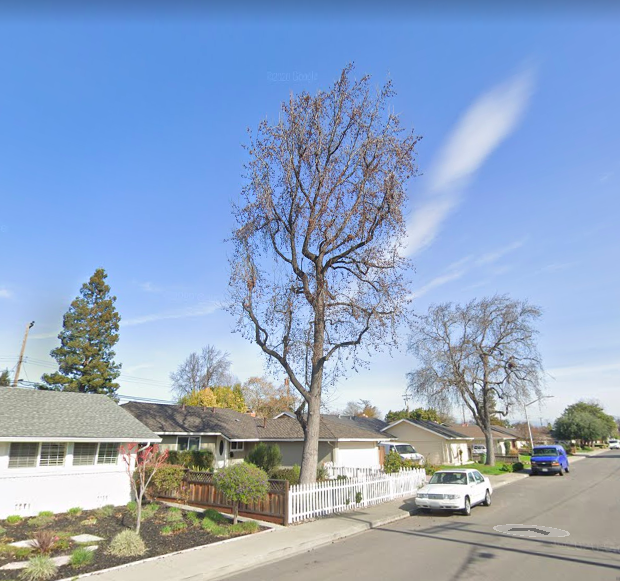tree: (215, 60, 425, 488)
